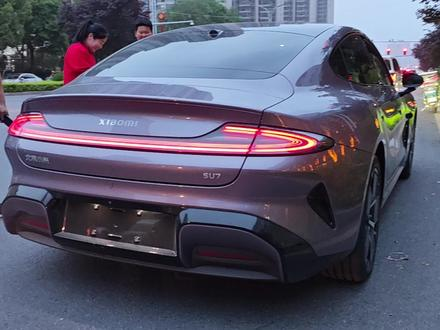su7: (7, 23, 422, 290)
